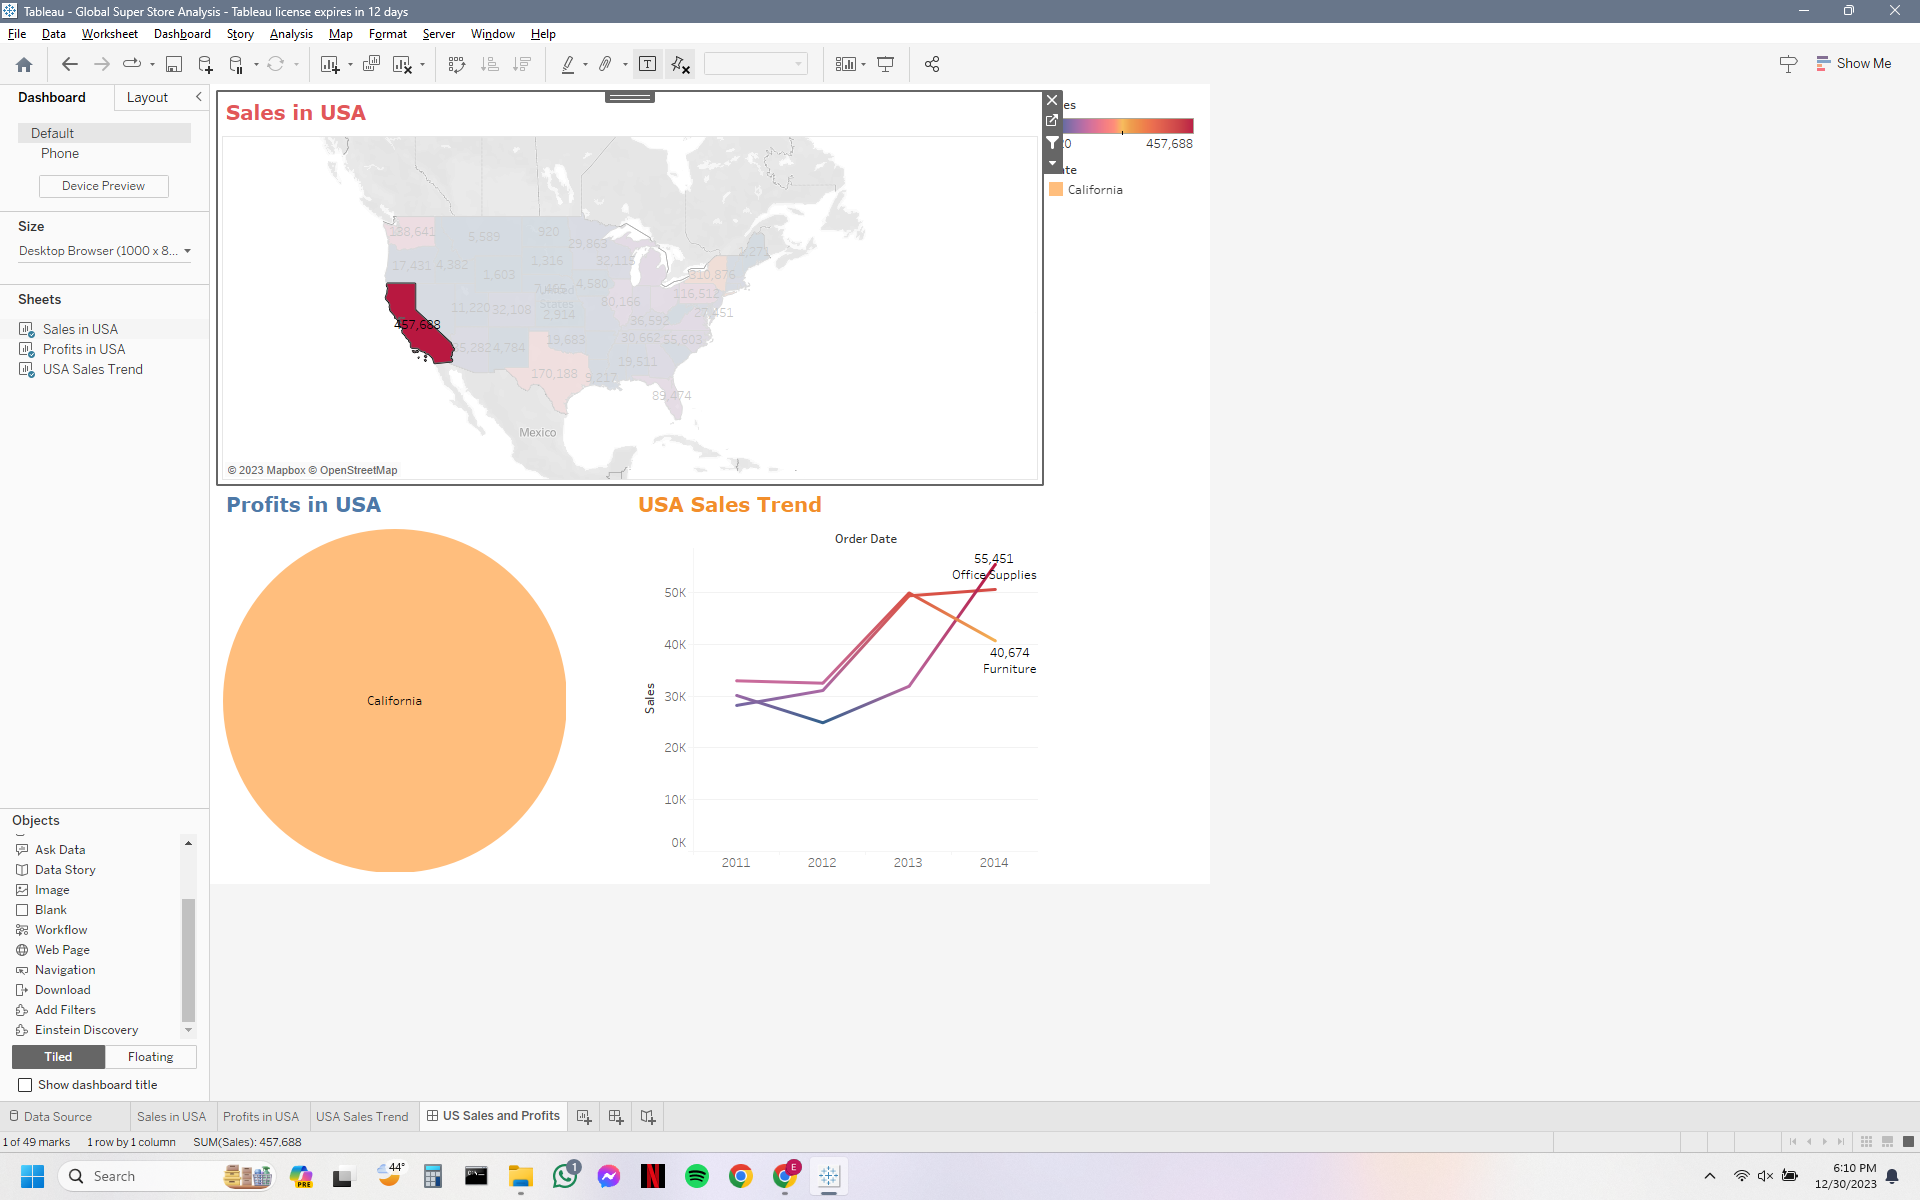

The page's visual inventory and layout, read from the dashboard file:
{"tool":"tableau","page":{"name":"US Sales and Profits","canvas":[1000,800],"ordinal":0},"visuals":[{"type":"worksheet","title":"Sales in USA","mark":"Automatic","box":[8,8,824,392]},{"type":"legend","title":"Sales in USA","param":"[federated.19u8wsd1j10lh4157i1sa0uvf8dd].[sum:Sales:qk]","box":[832,8,160,65]},{"type":"legend","title":"Profits in USA","param":"[federated.19u8wsd1j10lh4157i1sa0uvf8dd].[none:State:nk]","box":[832,73,160,719]},{"type":"worksheet","title":"Profits in USA","mark":"Circle","box":[8,400,412,392]},{"type":"worksheet","title":"USA Sales Trend","mark":"Automatic","rows":["Sales"],"cols":["Order Date"],"box":[420,400,412,392]}]}

Visuals, with their boxes on the page's 1000x800 design canvas (x1, y1, x2, y2). These are canvas units, not pixel positions in the 1920x1200 screenshot, which may show the page scaled, cropped or inside an application window:
"Sales in USA" worksheet: [left=8, top=8, right=832, bottom=400]
"Sales in USA" legend: [left=832, top=8, right=992, bottom=73]
"Profits in USA" legend: [left=832, top=73, right=992, bottom=792]
"Profits in USA" worksheet (Circle marks): [left=8, top=400, right=420, bottom=792]
"USA Sales Trend" worksheet: [left=420, top=400, right=832, bottom=792]
